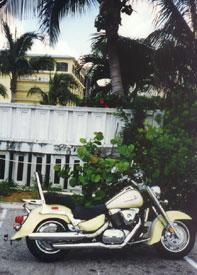motorcycle: (12, 155, 197, 265)
